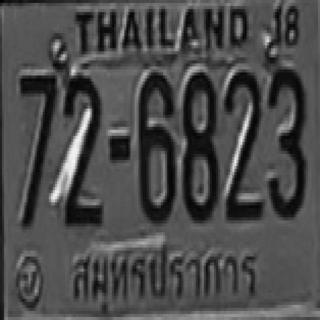N02: (58, 72, 101, 220), (223, 70, 262, 218), (60, 73, 101, 208), (223, 69, 260, 208)
N03: (266, 66, 305, 215)
N06: (137, 70, 173, 220)
N07: (18, 74, 57, 225), (19, 72, 56, 175)
N08: (181, 70, 216, 220)
P57: (68, 243, 261, 313)
